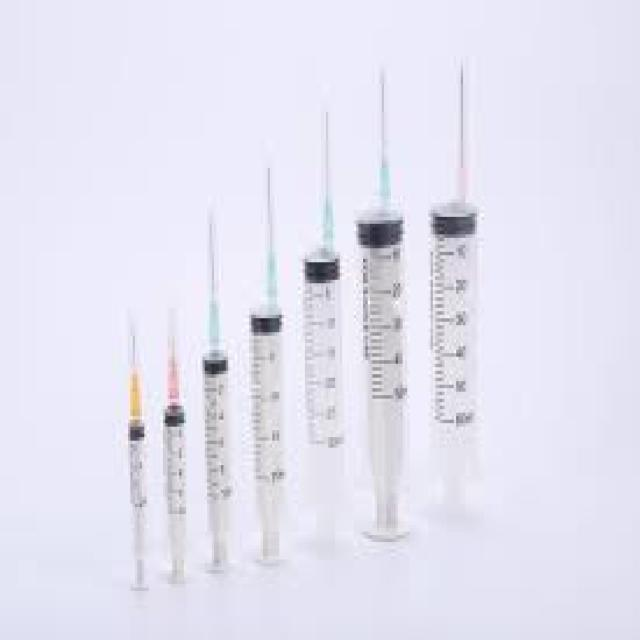syringe: (424, 52, 484, 518), (352, 63, 409, 542), (296, 94, 352, 549), (247, 136, 286, 566), (198, 192, 230, 574), (123, 308, 149, 591), (161, 301, 186, 584)
